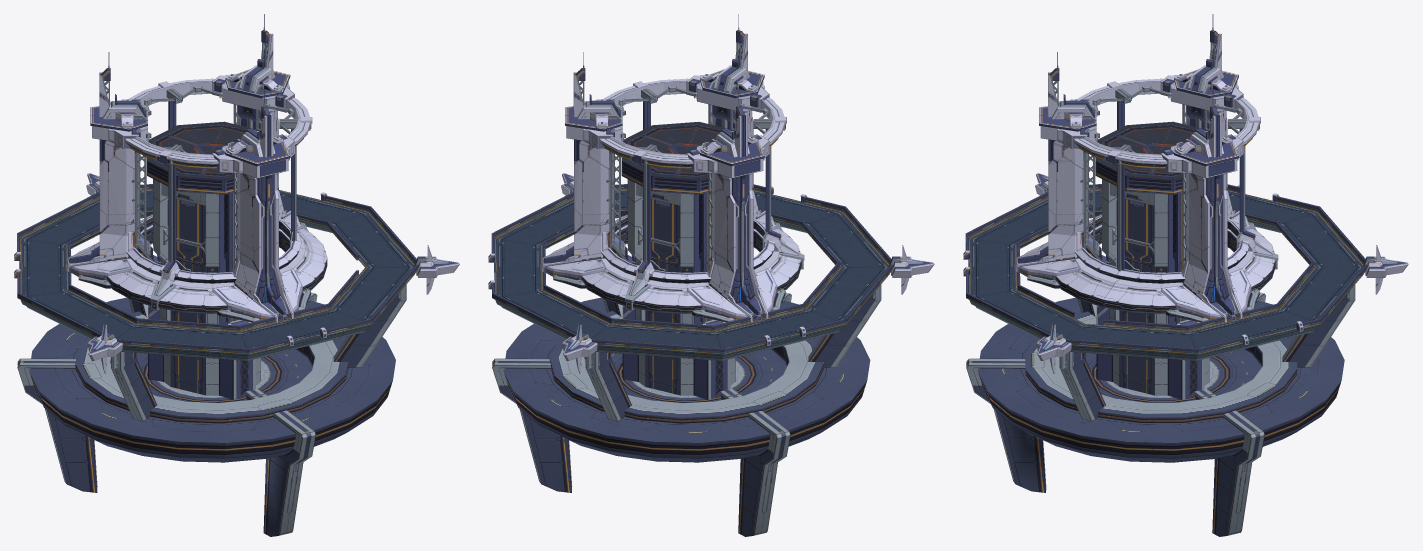
The model's file is Scene_01_dapingtai.FBX.
3 renders of one model, left to right at view 1: azimuth 30°, elevation 25°; view 2: azimuth 150°, elevation 25°; view 3: azimuth 270°, elevation 25°, orthographic.
Visible parts, largest first — view 1: Scene_01_dapingtai_04, Object001, Scene_01_dapingtai_03, Scene_01_dapingtai_02, Scene_01_dapingtai_06, Scene_01_dapingtai_05; view 2: Scene_01_dapingtai_04, Object001, Scene_01_dapingtai_03, Scene_01_dapingtai_02, Scene_01_dapingtai_06, Scene_01_dapingtai_05; view 3: Scene_01_dapingtai_04, Object001, Scene_01_dapingtai_03, Scene_01_dapingtai_02, Scene_01_dapingtai_06, Scene_01_dapingtai_05.
Boxes of the visible parts, box(x1,y1,x2,y2) form: Scene_01_dapingtai_04: box(17, 284, 406, 536); Object001: box(67, 14, 327, 322); Scene_01_dapingtai_03: box(17, 184, 418, 354); Scene_01_dapingtai_02: box(147, 121, 261, 399); Scene_01_dapingtai_06: box(20, 211, 414, 360); Scene_01_dapingtai_05: box(14, 173, 459, 373); Scene_01_dapingtai_04: box(492, 284, 881, 536); Object001: box(542, 14, 804, 322); Scene_01_dapingtai_03: box(491, 184, 893, 354); Scene_01_dapingtai_02: box(621, 122, 735, 399); Scene_01_dapingtai_06: box(495, 210, 889, 360); Scene_01_dapingtai_05: box(488, 173, 934, 373); Scene_01_dapingtai_04: box(966, 285, 1355, 536); Object001: box(1016, 14, 1278, 322); Scene_01_dapingtai_03: box(965, 184, 1367, 354); Scene_01_dapingtai_02: box(1095, 121, 1209, 399); Scene_01_dapingtai_06: box(969, 211, 1363, 360); Scene_01_dapingtai_05: box(963, 173, 1408, 373).
Size of the model in its own units: 16.26 by 18.32 by 16.9.
Materials: 5 (5 with a texture image).
